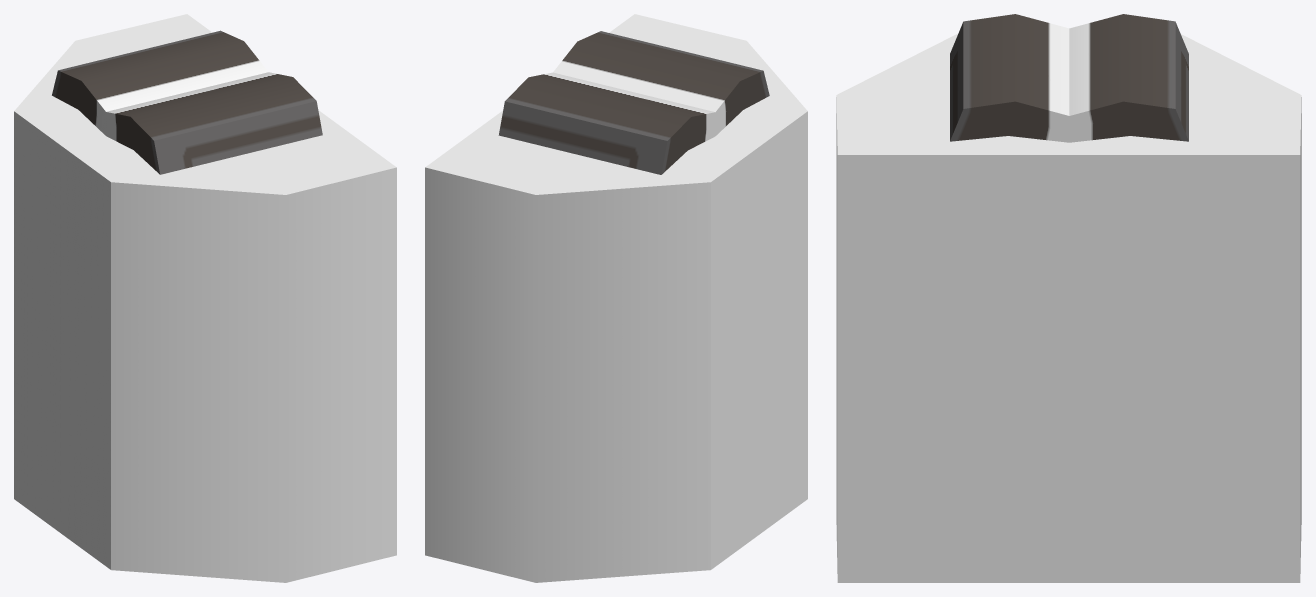
File: SkyBook.fbx
3 renders of one model, left to right at view 1: azimuth 30°, elevation 25°; view 2: azimuth 150°, elevation 25°; view 3: azimuth 270°, elevation 25°, orthographic. The views are drawn at different scales.
Visible parts, largest first — view 1: sc_zzms_jiangtai_001; view 2: sc_zzms_jiangtai_001; view 3: sc_zzms_jiangtai_001.
Boxes of the visible parts, left/top/right/bottom form: sc_zzms_jiangtai_001: left=14, top=14, right=396, bottom=582; sc_zzms_jiangtai_001: left=425, top=14, right=807, bottom=582; sc_zzms_jiangtai_001: left=836, top=14, right=1301, bottom=582.
Size of the model in its own units: 0.8193 by 1.45 by 1.3.
